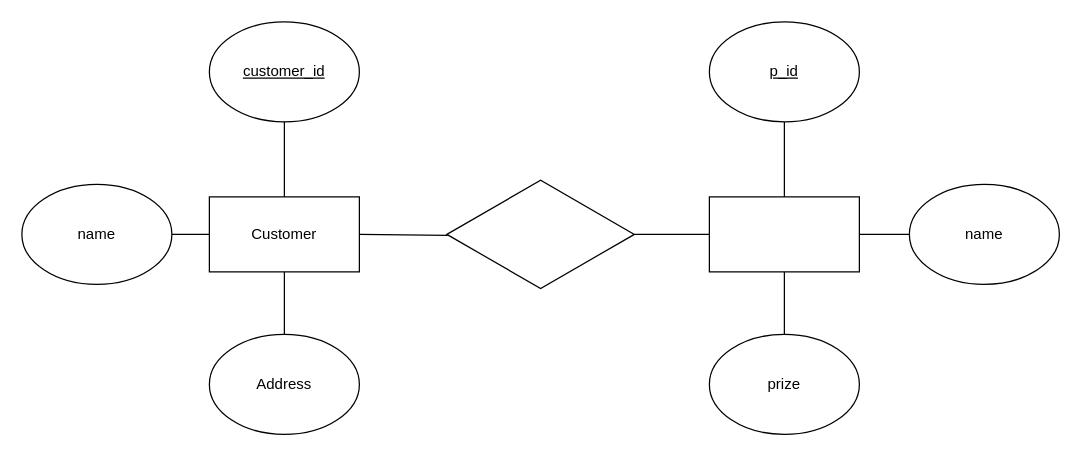
This 1081x456 diagram has some shape labels left out. The shapes that lost their labels are listed below. From the top down, each one's centre as x and y in pixels, then its label:
the point at 540,234: Buys
the point at 783,234: Product
